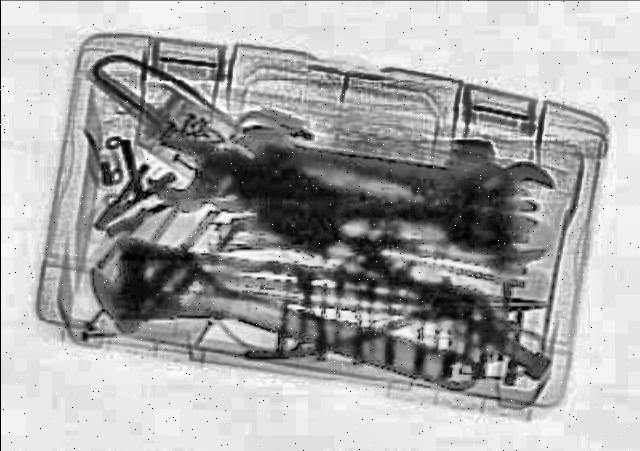Wrench: (58, 226, 504, 430), (220, 118, 562, 212), (130, 131, 372, 243)
